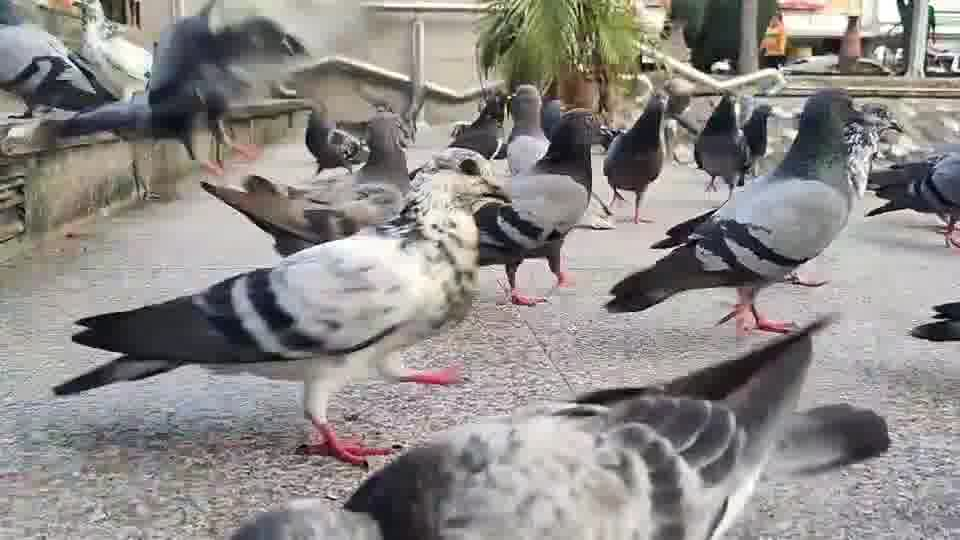Pigeon: (229, 314, 889, 539), (51, 156, 511, 467), (601, 86, 904, 337), (199, 109, 415, 257), (0, 21, 120, 119), (599, 89, 670, 224), (863, 149, 959, 248), (910, 300, 959, 341)
